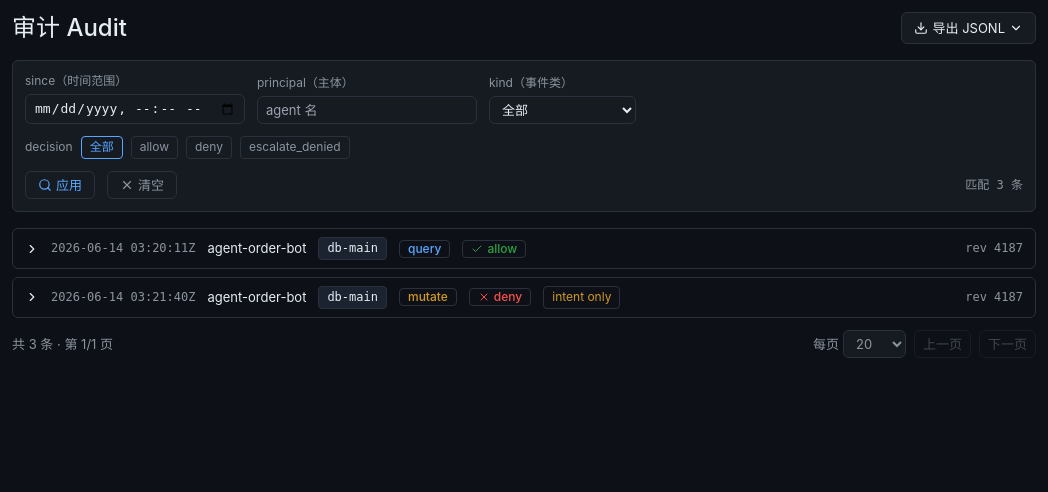
Scenario: AuditPage — 渲染与正常路径 › expands a paired request row to reveal outcome-only fields (response_digest + duration)
The width and height of the screenshot is (1048, 492).
The first row is the allow request (intent+outcome paired).
What coordinates should you click on to do the following:
click the button that starts with "2026-06-14 03:20:11Z"
I would click on:
 (524, 249)
Its box is [13,229,1035,268].
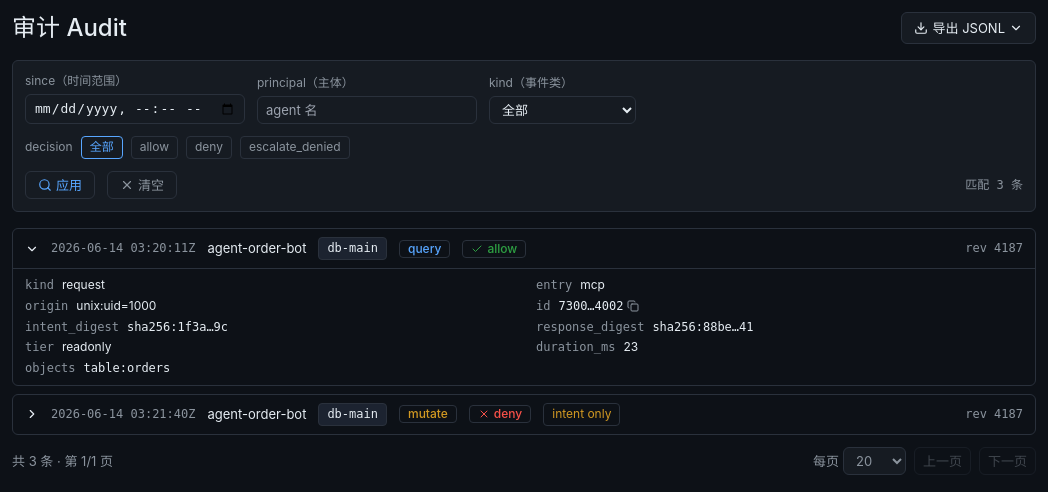
expect the text "response_digest" is shown: met, box [536,318,644,335]
expect the text "sha256:88be…41" is shown: met, box [652,318,754,335]
expect the text "duration_ms" is shown: met, box [536,339,616,356]
